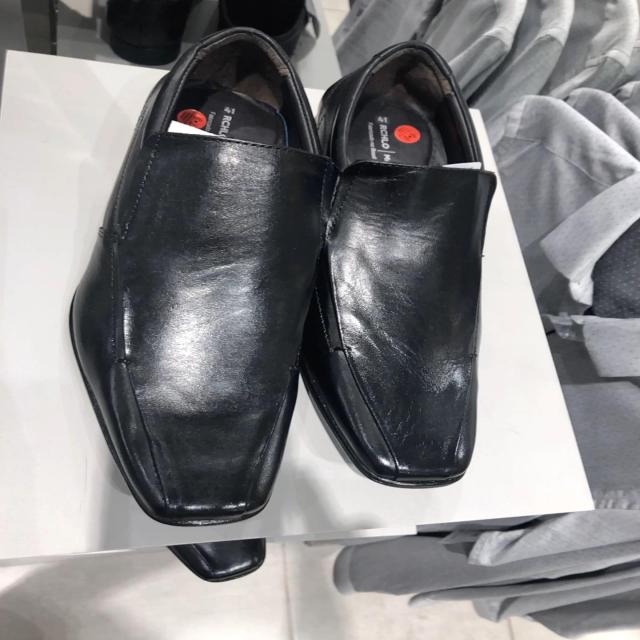shoe: (68, 27, 332, 525), (310, 34, 492, 489)
